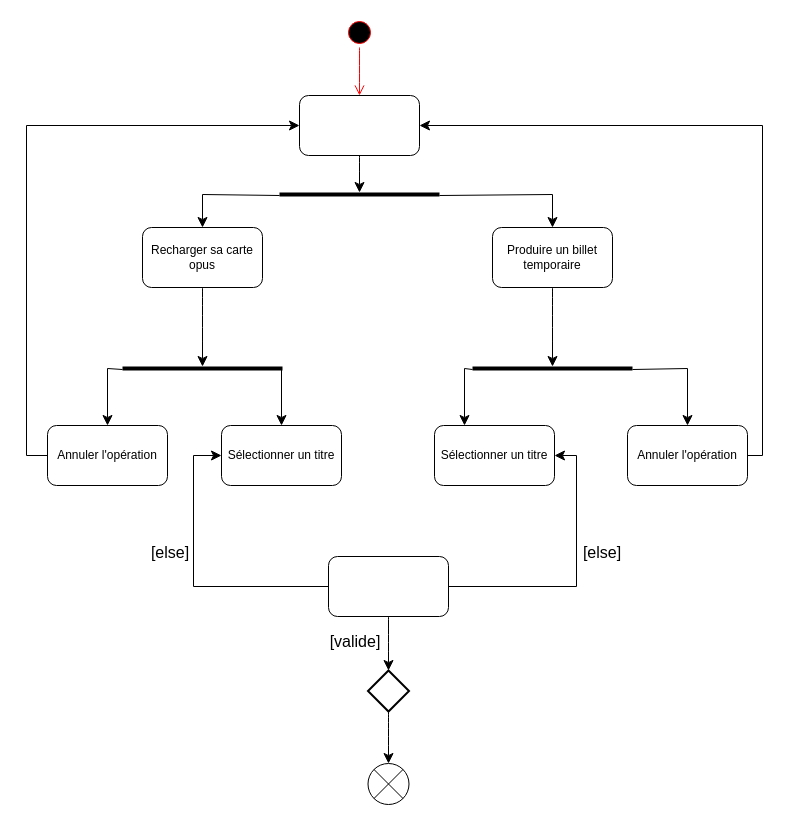
Some shapes in this 790 by 822 pixel diagram are drawn without their labels. The shapes that lost their labels are listed below. From the top down, each one's centre as x and y in pixels, then its label:
[359,125]: Acheter un billet
[388,586]: Paiement
